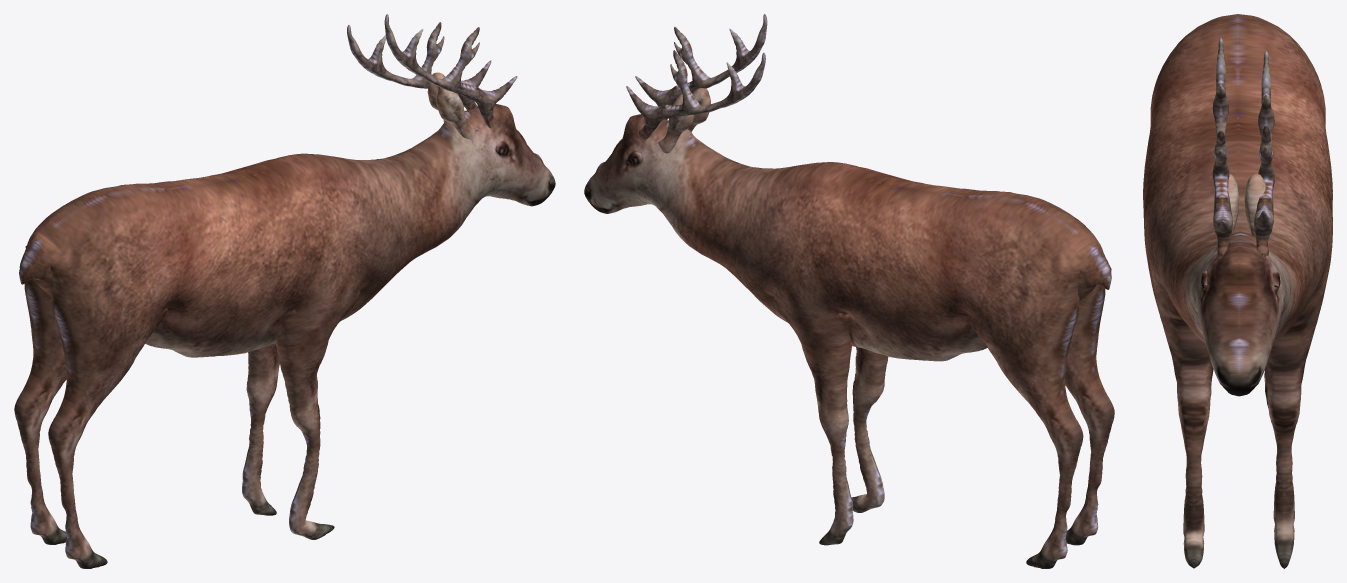
Rendered from deer.glb.
The picture shows the model from 3 angles, left to right: view 1: azimuth 30°, elevation 25°; view 2: azimuth 150°, elevation 25°; view 3: azimuth 270°, elevation 25°; orthographic projection. The views are drawn at different scales.
Visible parts, largest first — view 1: mesh_0; view 2: mesh_0; view 3: mesh_0.
Boxes of the visible parts, <box> form: mesh_0: <box>14,14,555,568</box>; mesh_0: <box>584,14,1114,568</box>; mesh_0: <box>1143,14,1332,568</box>.
Bounding box in the file's own units: 8.36 × 7.47 × 2.22.
Materials: 1 (1 with a texture image).
